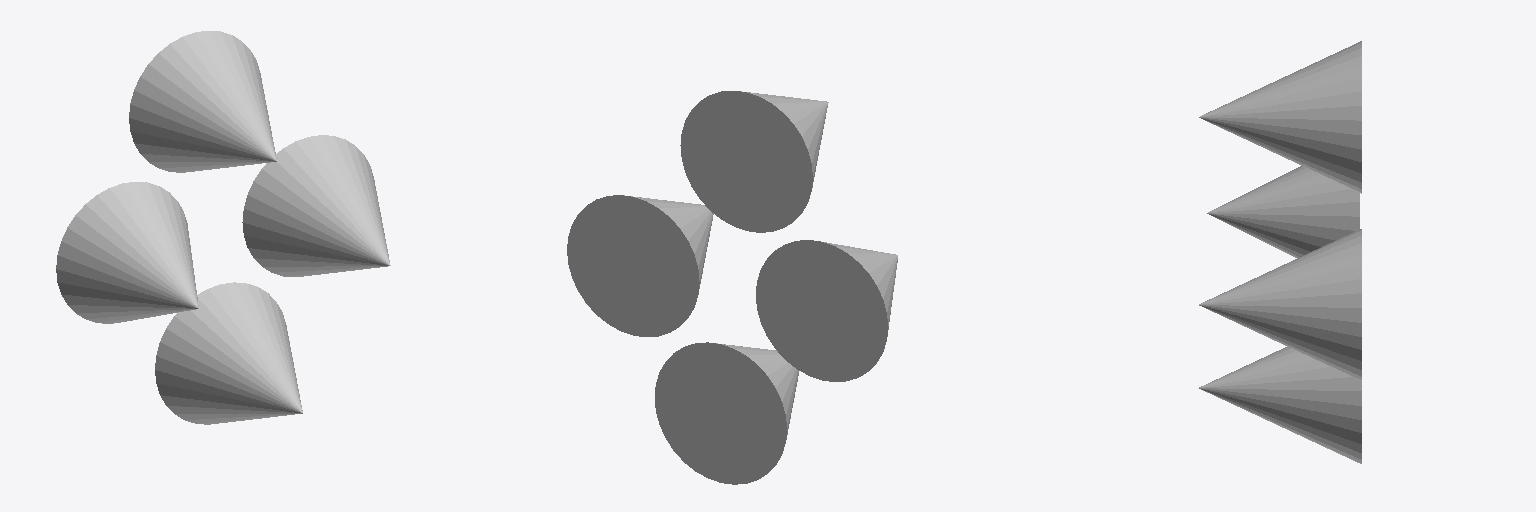
The model's file is spikes.obj.
3 views of the same model, side by side, from view 1: azimuth 30°, elevation 25°; view 2: azimuth 150°, elevation 25°; view 3: azimuth 270°, elevation 25° (orthographic).
Visible parts, largest first — view 1: Cone.002, Cone, Cone.003, Cone.001; view 2: Cone.002, Cone, Cone.003, Cone.001; view 3: Cone, Cone.002, Cone.003, Cone.001.
Boxes of the visible parts, <box> form: Cone.002: <box>129,31,276,172</box>; Cone: <box>242,135,390,276</box>; Cone.003: <box>155,282,302,424</box>; Cone.001: <box>56,182,198,323</box>; Cone.002: <box>680,91,828,232</box>; Cone: <box>567,195,713,336</box>; Cone.003: <box>655,342,798,484</box>; Cone.001: <box>756,240,897,381</box>; Cone: <box>1199,229,1361,380</box>; Cone.002: <box>1199,41,1361,193</box>; Cone.003: <box>1199,347,1361,463</box>; Cone.001: <box>1207,166,1359,257</box>.
Bounding box in the file's own units: 4.83 × 5.72 × 2.14.